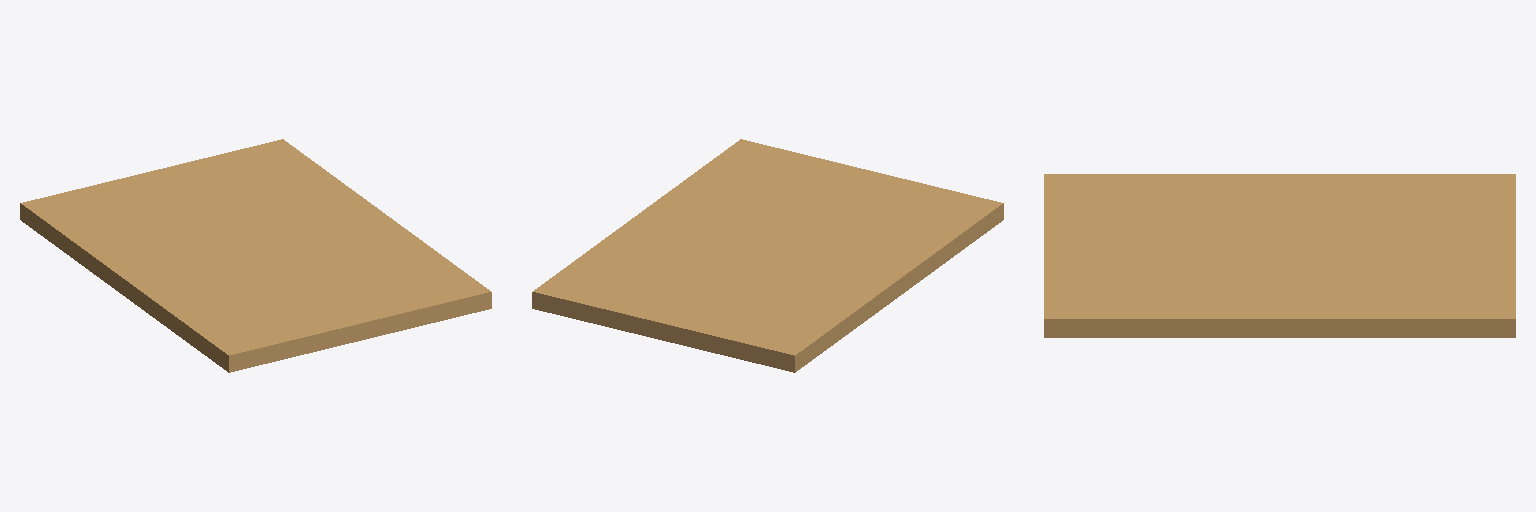
URDF robot description (flat_terrain):
<?xml version="1.0"?>
<robot name="flat_terrain">
  <material name="Wood">
   <color rgba="0.827 0.675 0.463 1.0"/>
  </material>
  <material name="LightWood">
    <color rgba="0.992, 0.871, 0.682, 1.0"/>
  </material>
  <material name="Metal">
    <color rgba="0.718, 0.753, 0.749, 1.0"/>
  </material>


  <link name="base_link">
    <visual>
      <origin xyz="0.15 0 -0.05" rpy="0 0 0" />
      <geometry>
        <box size="1.6 2.2 0.1" />
      </geometry>
      <material name="Wood"/>
    </visual>
    <collision>
      <origin xyz="0 0 -0.05" rpy="0 0 0" />
      <geometry>
        <box size="1.6 2.2 0.1" />
      </geometry>
    </collision>
  </link>
</robot>

--- Facts derived from the render (not from the file) ---
Views: 3 orthographic renders of the robot side by side, from view 1: azimuth 30°, elevation 25°; view 2: azimuth 150°, elevation 25°; view 3: azimuth 270°, elevation 25°.
Model flat_terrain with 1 links and 0 joints (none), rooted at base_link, posed all joints at 0.
Links seen in each view (by area): view 1: base_link; view 2: base_link; view 3: base_link.
Boxes of the visible links, x1,y1,x2,y2 form: base_link: (20, 139, 491, 372); base_link: (532, 139, 1003, 372); base_link: (1044, 174, 1515, 337).
Bounding box of the posed robot: 1.6 × 2.2 × 0.1 m (x, y, z).
Geometry: primitives only (box / cylinder / sphere), no mesh files.
